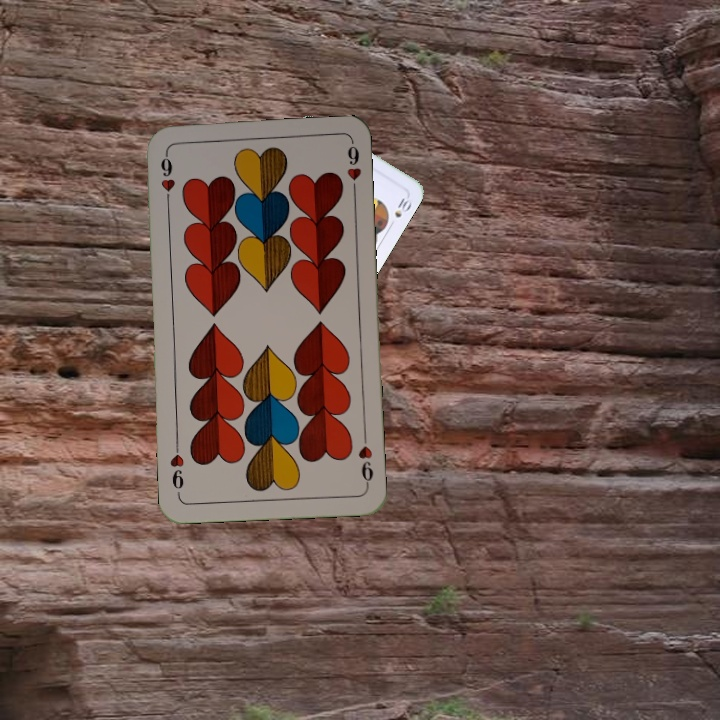H9: (354, 430, 376, 489), (156, 149, 178, 208)
